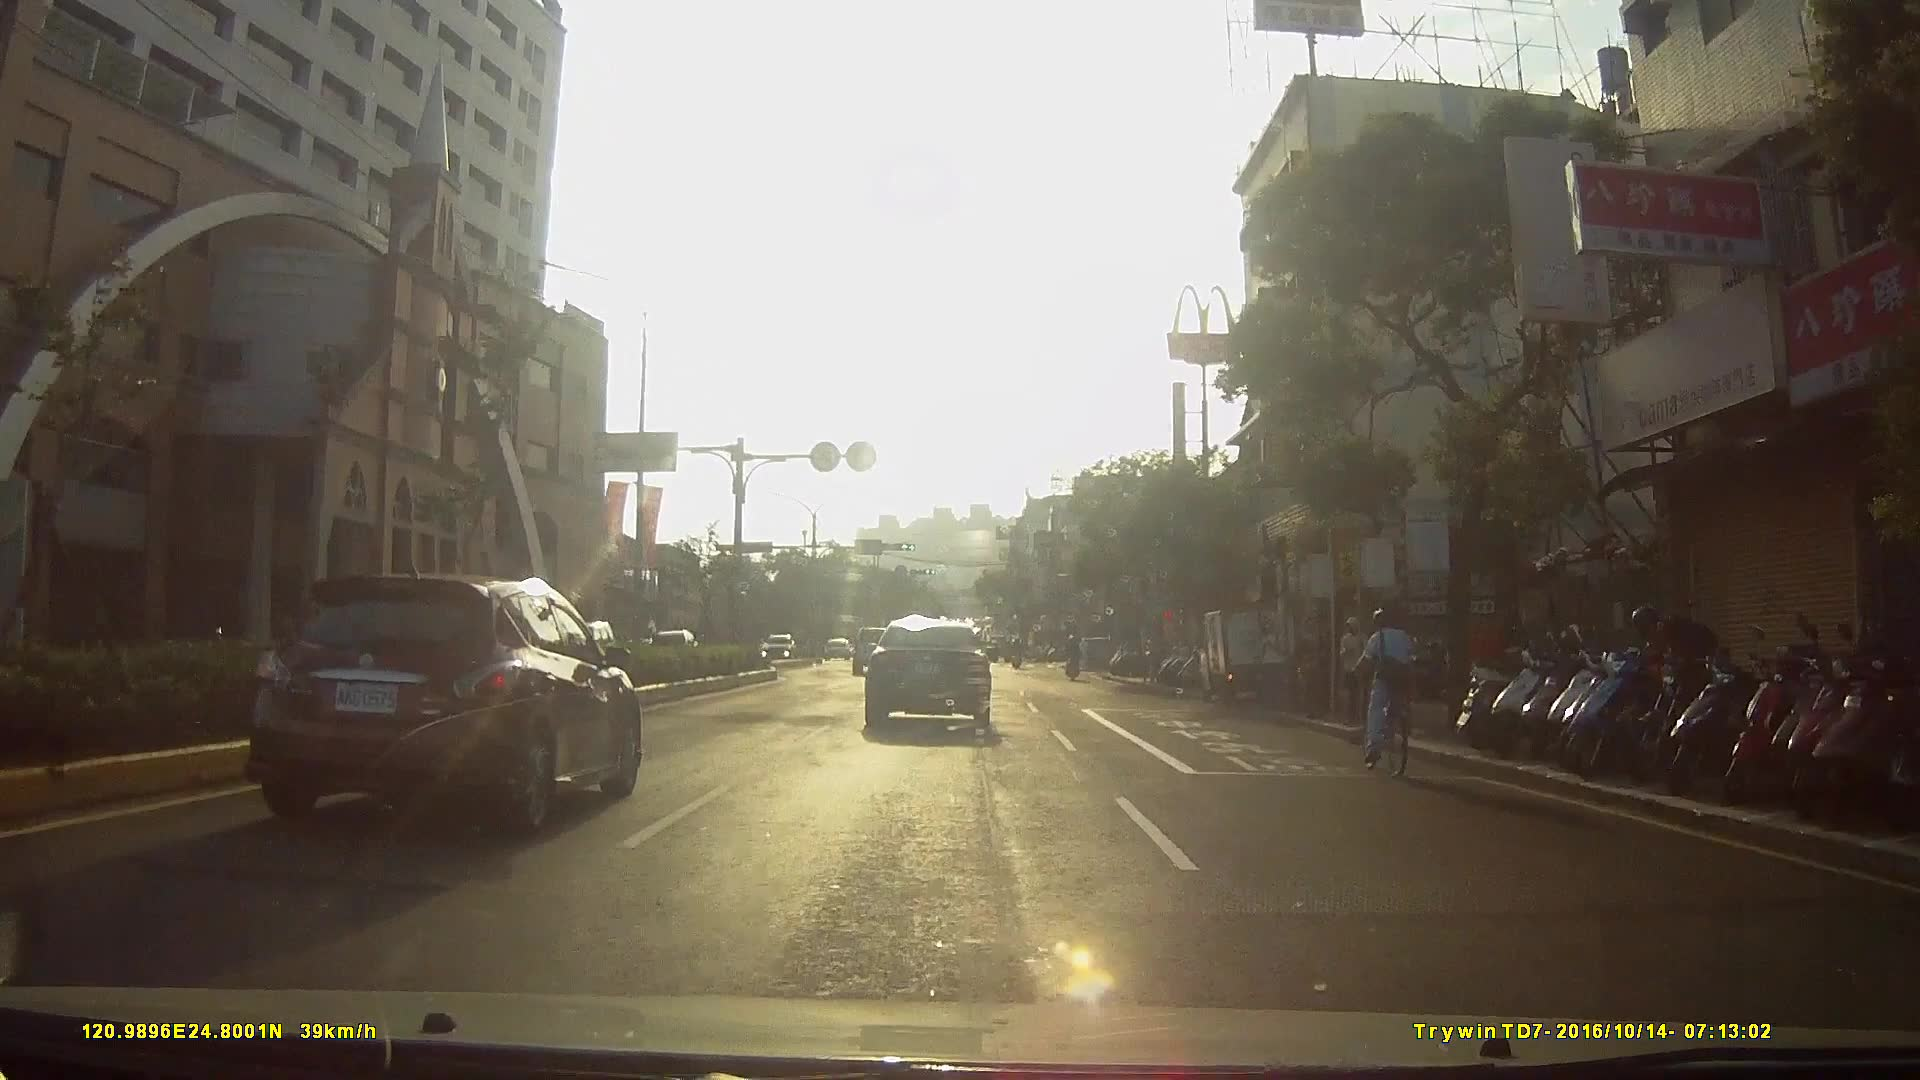pedestrian: (1339, 611, 1381, 724)
rider: (1345, 607, 1422, 778), (1065, 625, 1086, 677)
vehicle: (236, 563, 653, 831), (862, 609, 1005, 737), (1204, 595, 1313, 704), (848, 622, 907, 675), (757, 625, 800, 656), (818, 632, 846, 659)
